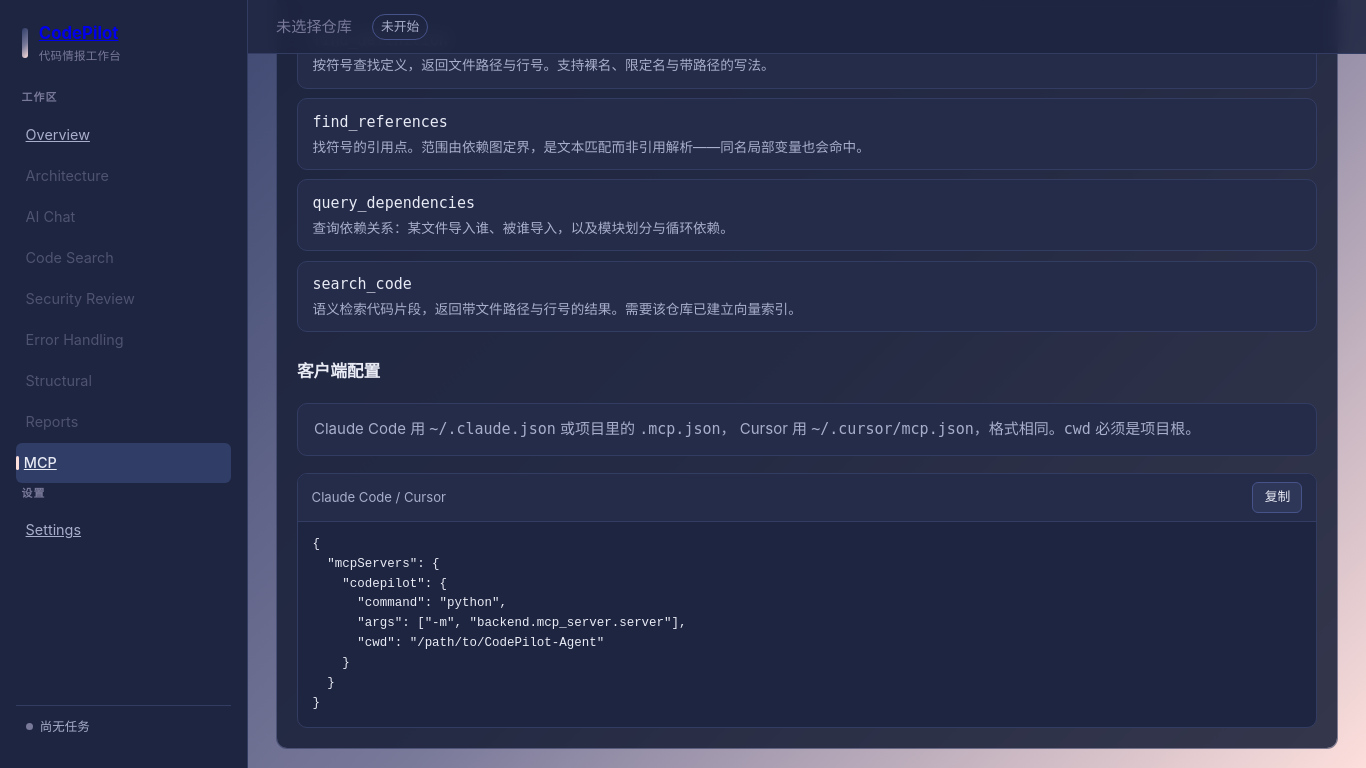
Test: 配置片段（AE-16、R-59） › 剪贴板不可用时给出说明而非静默失败
This screenshot has width=1366, height=768.
(page scrolled)
Click the button "复制" at (1277, 498), box [1252,482,1302,513]
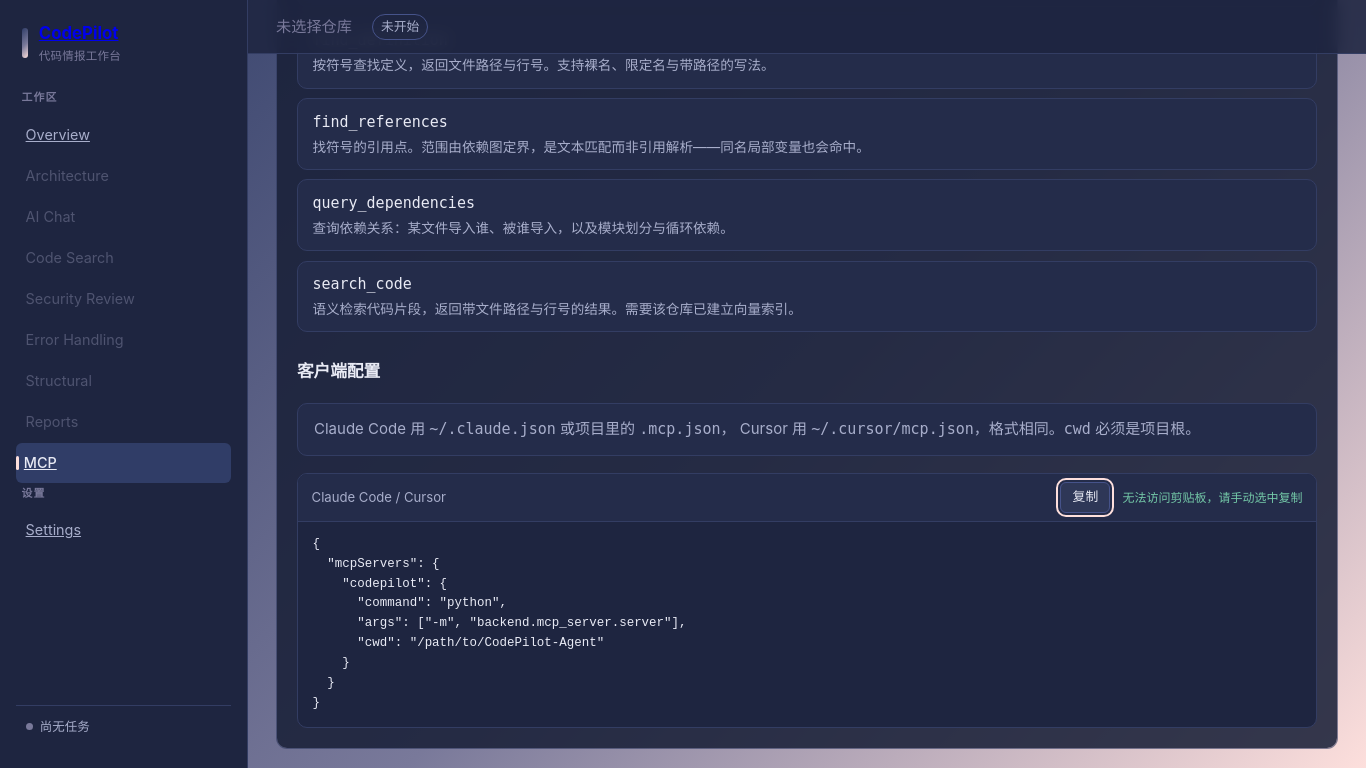
Result: the text "无法访问剪贴板，请手动选中复制" is shown at [1122,488,1302,507]
